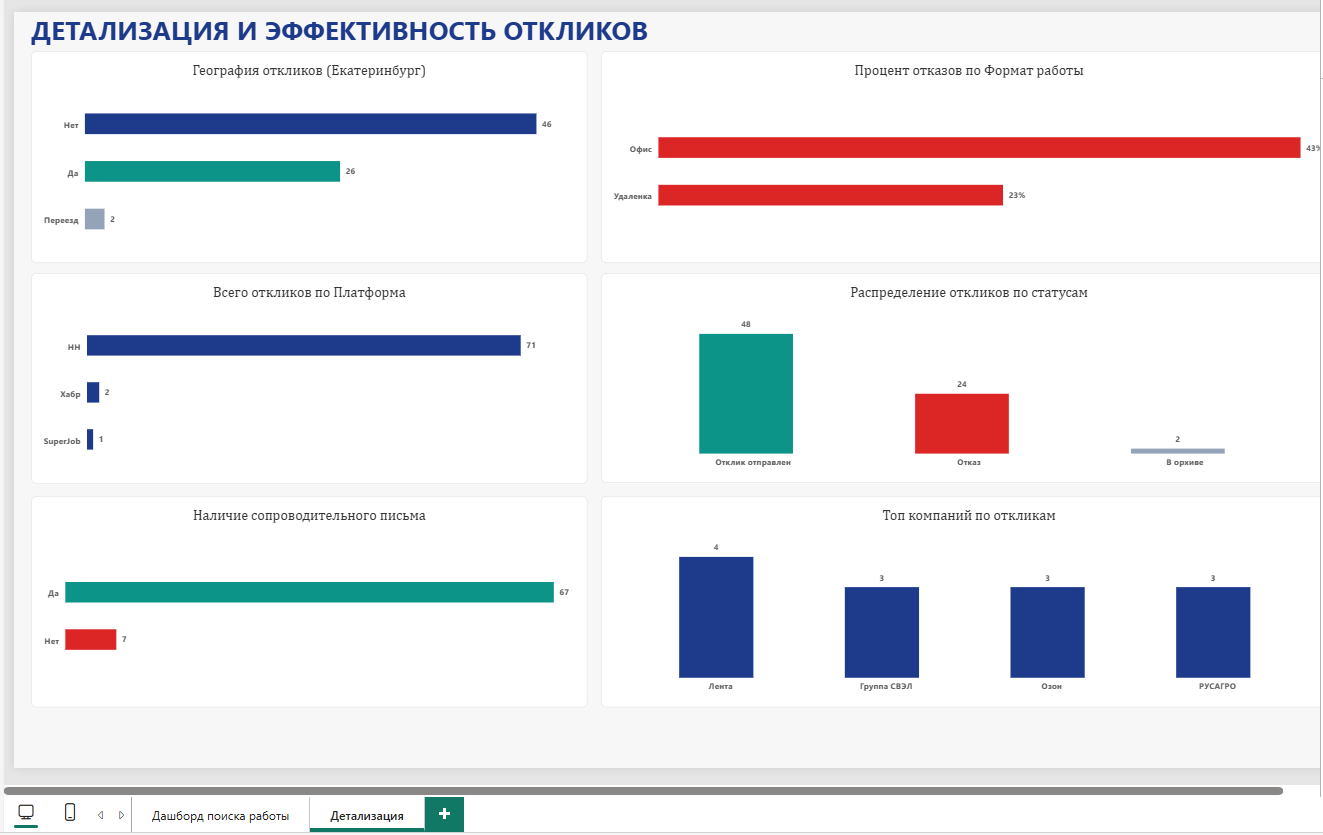

Layout of this report page (visuals, bound fields, positions):
{"tool":"powerbi","page":{"name":"Детализация","canvas":[1920,1080],"ordinal":1},"visuals":[{"type":"pieChart","fields":{"Category":["Таблица откликов.Екатеринбург"],"Y":["DAX.Всего откликов"]},"box":[24.8,26.3,795.1,303.5],"z":0},{"type":"pieChart","fields":{"Category":["Таблица откликов.Платформа"],"Y":["DAX.Всего откликов"]},"box":[24.8,342.9,795.1,313.7],"z":1000},{"type":"pieChart","fields":{"Category":["Таблица откликов.Письмо отправлено"],"Y":["DAX.Всего откликов"]},"box":[24.8,666.7,795.1,326.8],"z":2000},{"type":"columnChart","fields":{"Category":["Таблица откликов.Статус"],"Y":["DAX.Всего откликов"]},"box":[850.6,342.9,1034.4,313.7],"z":3000},{"type":"textbox","box":[2.9,1003.8,1866,59.8],"z":4000},{"type":"funnel","title":"Воронка откликов","fields":{"Category":["Таблица откликов.Статус"],"Y":["DAX.Всего откликов"]},"box":[850.6,26.3,1034.4,303.5],"z":5000},{"type":"columnChart","title":"Топ компаний по откликам","fields":{"Category":["Таблица откликов.Компания"],"Y":["DAX.Всего откликов"]},"box":[850,677.1,1034.3,317.1],"z":6000}]}

Visuals, with their boxes on the page's 1920x1080 design canvas (x1, y1, x2, y2). These are canvas units, not pixel positions in the 1323x835 screenshot, which may show the page scaled, cropped or inside an application window:
pieChart - Таблица откликов.Екатеринбург x DAX.Всего откликов: [25,26,820,330]
pieChart - Таблица откликов.Платформа x DAX.Всего откликов: [25,343,820,657]
pieChart - Таблица откликов.Письмо отправлено x DAX.Всего откликов: [25,667,820,994]
columnChart - Таблица откликов.Статус x DAX.Всего откликов: [851,343,1885,657]
textbox: [3,1004,1869,1064]
"Воронка откликов" funnel: [851,26,1885,330]
"Топ компаний по откликам" columnChart: [850,677,1884,994]
